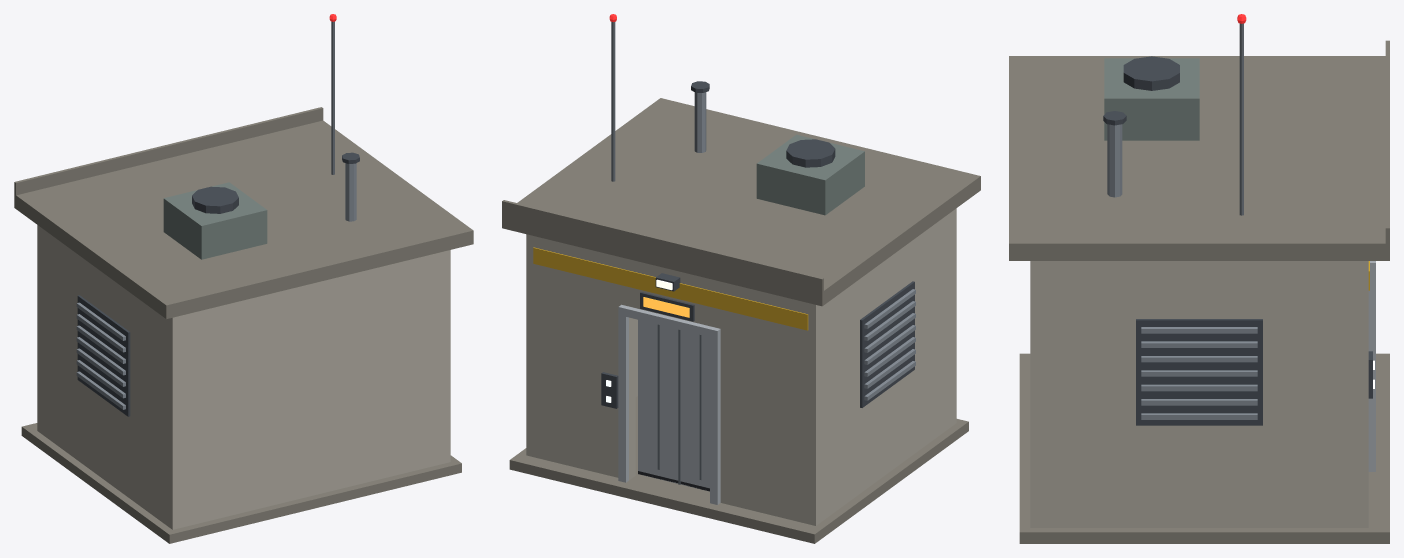
File: elevator_roof.glb
3 views of the same model, side by side, from view 1: azimuth 30°, elevation 25°; view 2: azimuth 150°, elevation 25°; view 3: azimuth 270°, elevation 25° (orthographic). The views are drawn at different scales.
Visible parts, largest first — view 1: Body; view 2: Body, DoorR, DoorL; view 3: Body.
Part boxes in pixels (x1,y1,x2,y2): Body: (14, 14, 473, 543); Body: (502, 14, 980, 543); DoorR: (638, 320, 678, 483); DoorL: (678, 329, 709, 491); Body: (1009, 14, 1389, 543).
Size of the model in its own units: 4.2 by 5.27 by 3.6.
